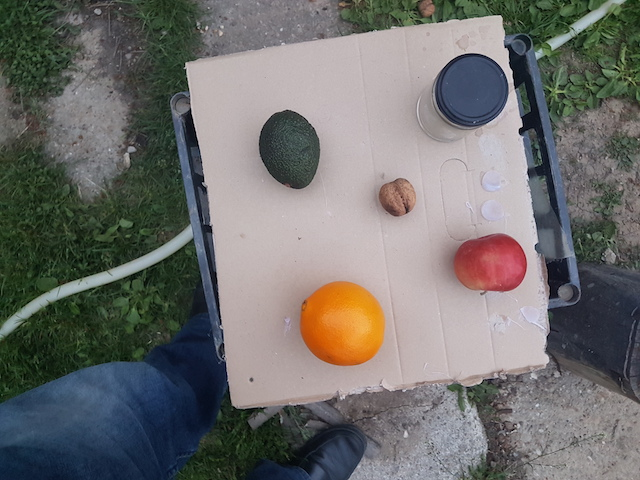apple: (451, 229, 530, 299)
avocado: (260, 106, 321, 196)
nut: (377, 175, 418, 218)
orange: (296, 278, 388, 367)
recipient: (434, 50, 509, 128)
